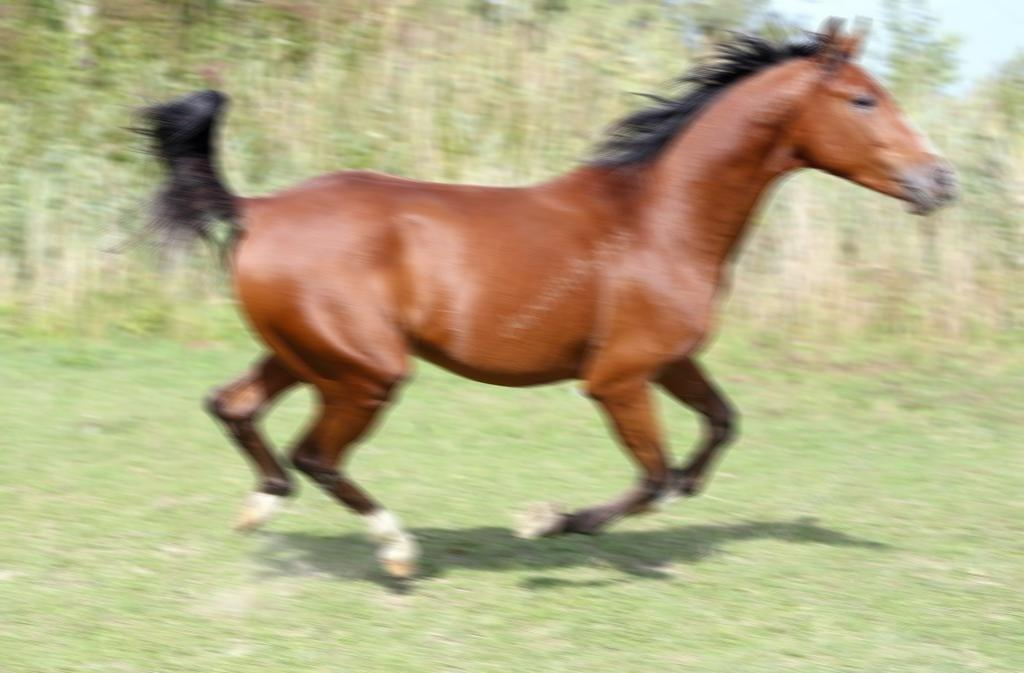horse: (118, 0, 966, 593)
